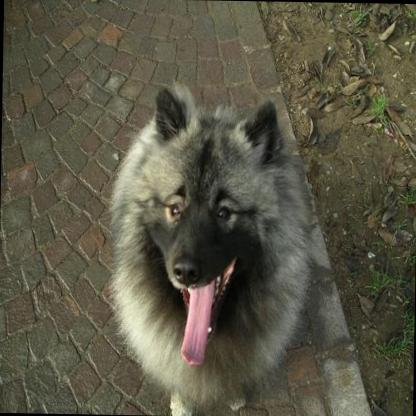keeshond: (104, 80, 314, 414)
